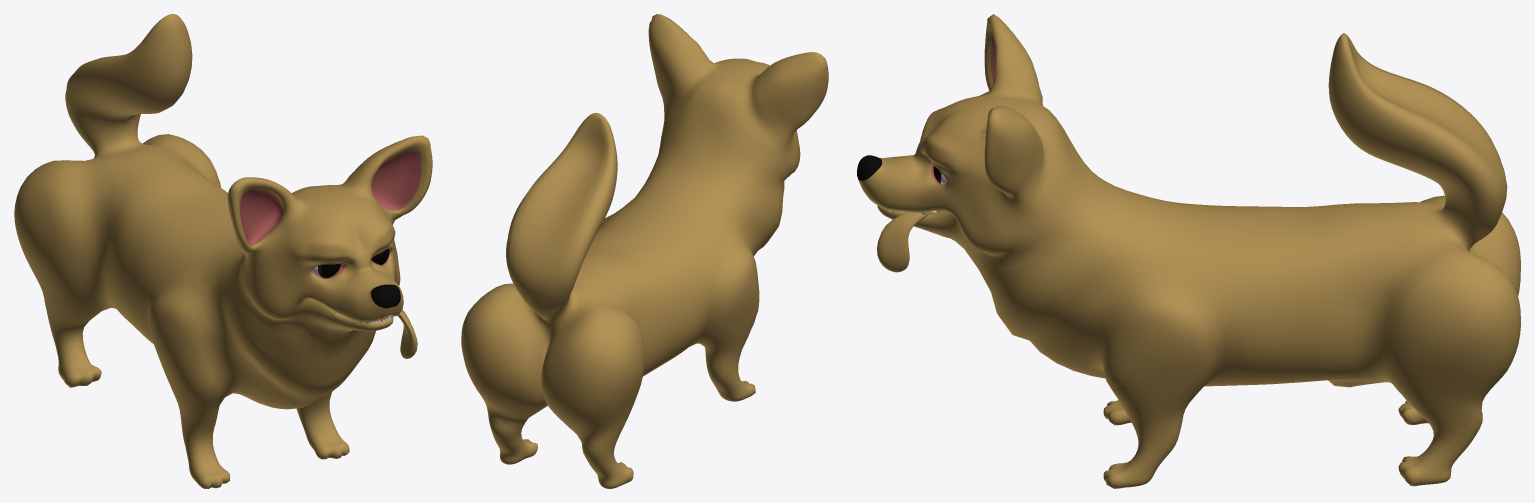
File: Corgi.fbx
3 renders of one model, left to right at view 1: azimuth 30°, elevation 25°; view 2: azimuth 150°, elevation 25°; view 3: azimuth 270°, elevation 25°, orthographic. The views are drawn at different scales.
Visible parts, largest first — view 1: Corgi, Corgi_Tongue; view 2: Corgi; view 3: Corgi, Corgi_Tongue.
Part boxes in pixels (bbox=[...]): Corgi: bbox=[14, 14, 432, 488]; Corgi_Tongue: bbox=[397, 309, 417, 358]; Corgi: bbox=[461, 14, 828, 488]; Corgi: bbox=[857, 14, 1520, 488]; Corgi_Tongue: bbox=[877, 210, 937, 272].
Bounding box in the file's own units: 42.95 × 78.21 × 113.
